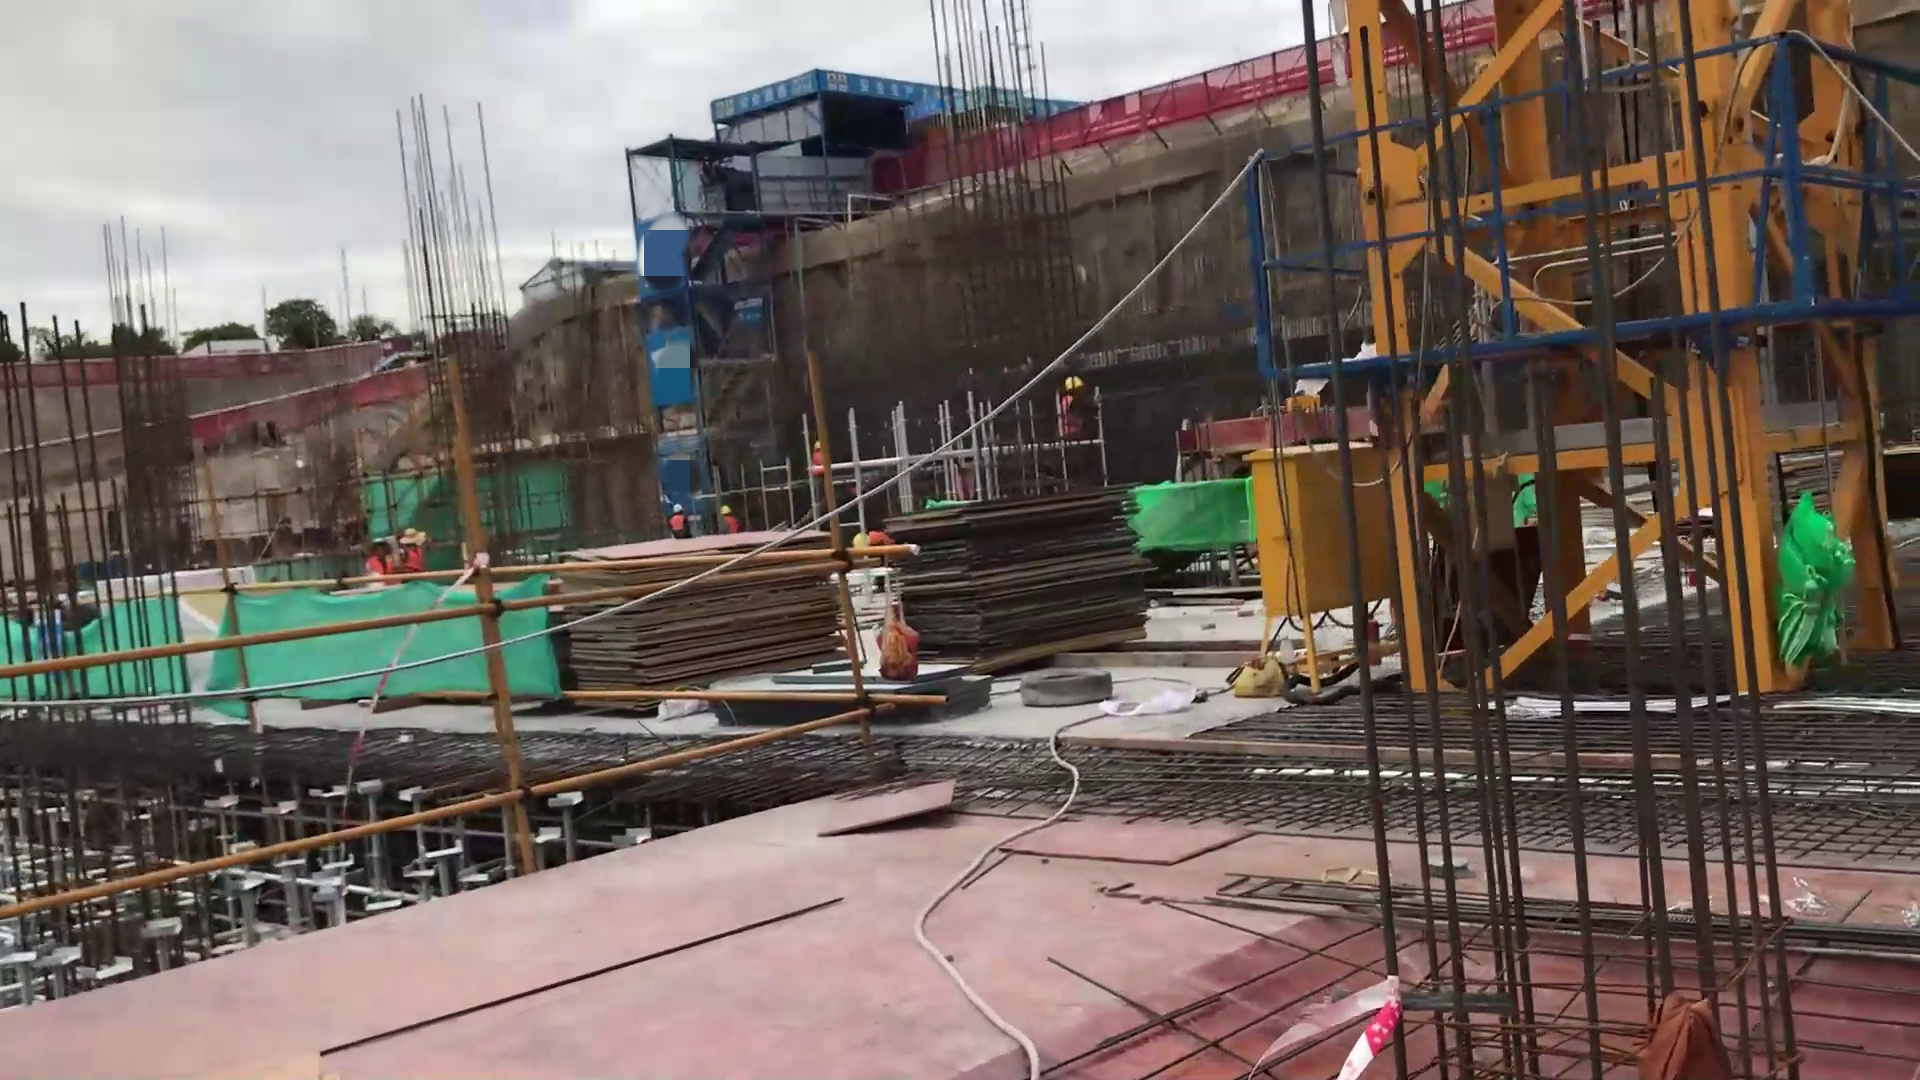board: (541, 554, 866, 684), (899, 501, 1149, 646)
ebox: (1248, 447, 1379, 627)
fence: (1083, 56, 1286, 126)
helmet: (1063, 372, 1086, 395), (402, 526, 425, 546), (368, 533, 394, 548), (856, 529, 866, 549), (814, 437, 826, 453), (672, 504, 686, 511), (719, 505, 733, 511)
person: (1057, 372, 1100, 473), (401, 520, 432, 580), (362, 539, 393, 589), (663, 503, 703, 536), (859, 523, 889, 558), (718, 499, 740, 538), (809, 435, 824, 473)
rebar: (1216, 864, 1920, 962)
vest: (1058, 395, 1085, 441), (363, 553, 391, 579), (399, 544, 424, 572), (868, 529, 895, 547), (721, 513, 740, 533), (667, 515, 685, 532), (815, 449, 824, 465)
